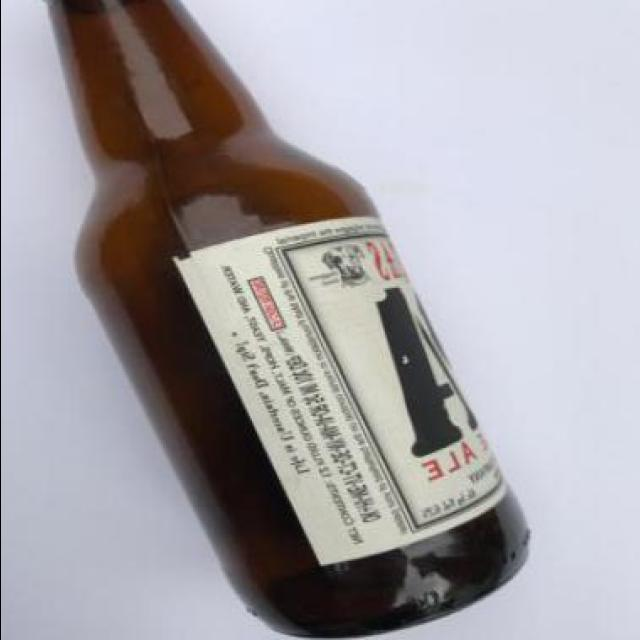kaca: (35, 0, 528, 638)
